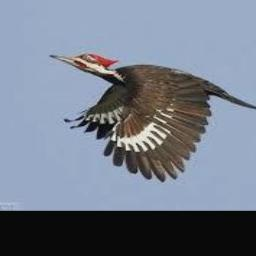Woodpecker: (51, 53, 256, 182)
